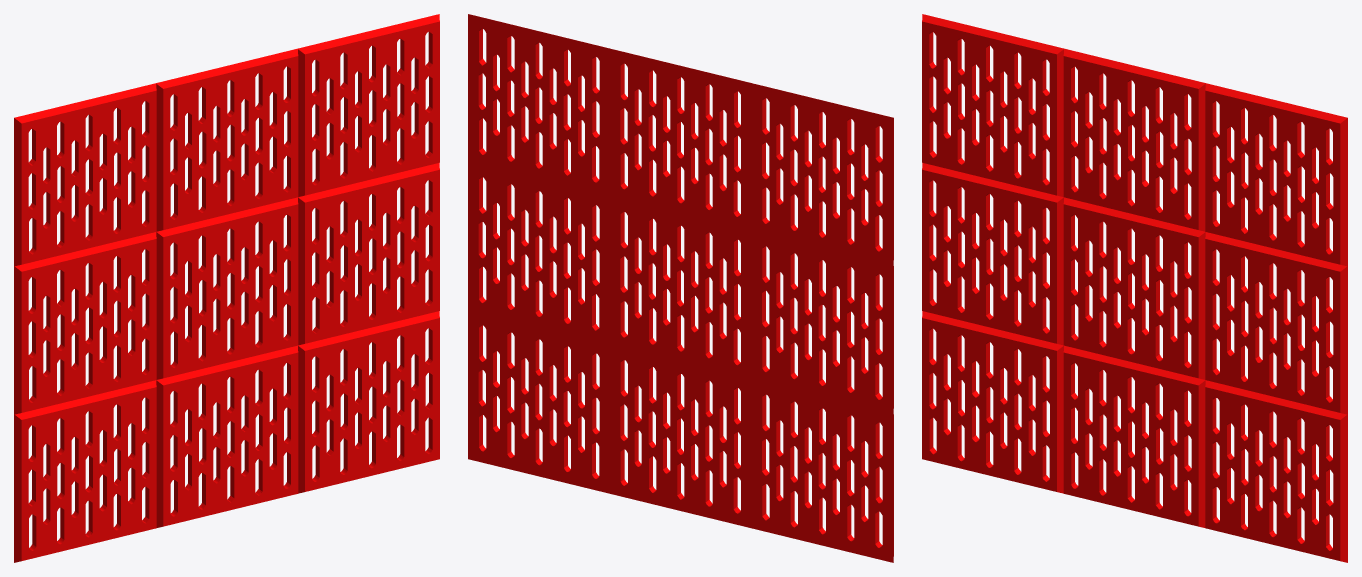
The model's file is Platform1.fbx.
3 views of the same model, side by side, from view 1: azimuth 30°, elevation 25°; view 2: azimuth 150°, elevation 25°; view 3: azimuth 330°, elevation 25° (orthographic).
Visible parts, largest first — view 1: PlatformTiles; view 2: PlatformTiles; view 3: PlatformTiles.
Boxes of the visible parts, left/top/right/bottom form: PlatformTiles: left=14, top=14, right=439, bottom=562; PlatformTiles: left=468, top=14, right=893, bottom=562; PlatformTiles: left=922, top=14, right=1347, bottom=562.
Size of what is drawn, in the model's own units: 6007 by 6006 by 95.99.
